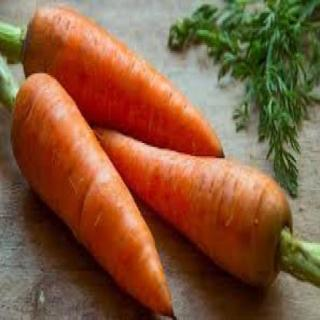Wortel: (10, 73, 172, 320), (24, 5, 226, 159), (103, 130, 292, 294)
